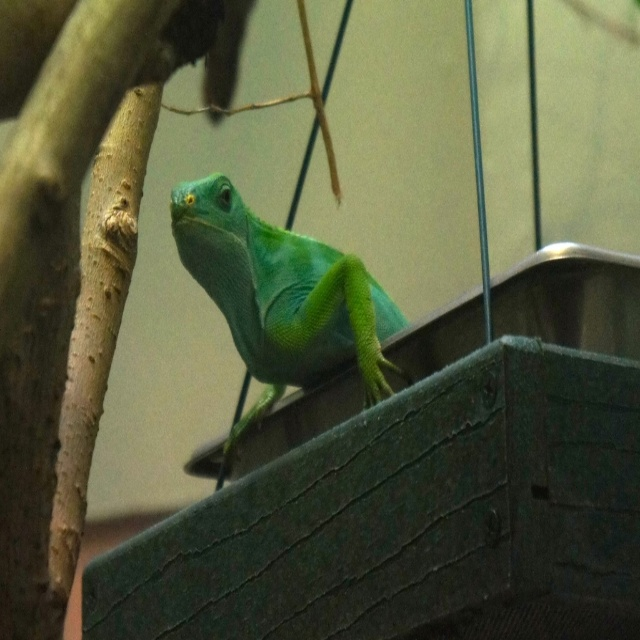Lizard: (153, 173, 423, 426)
